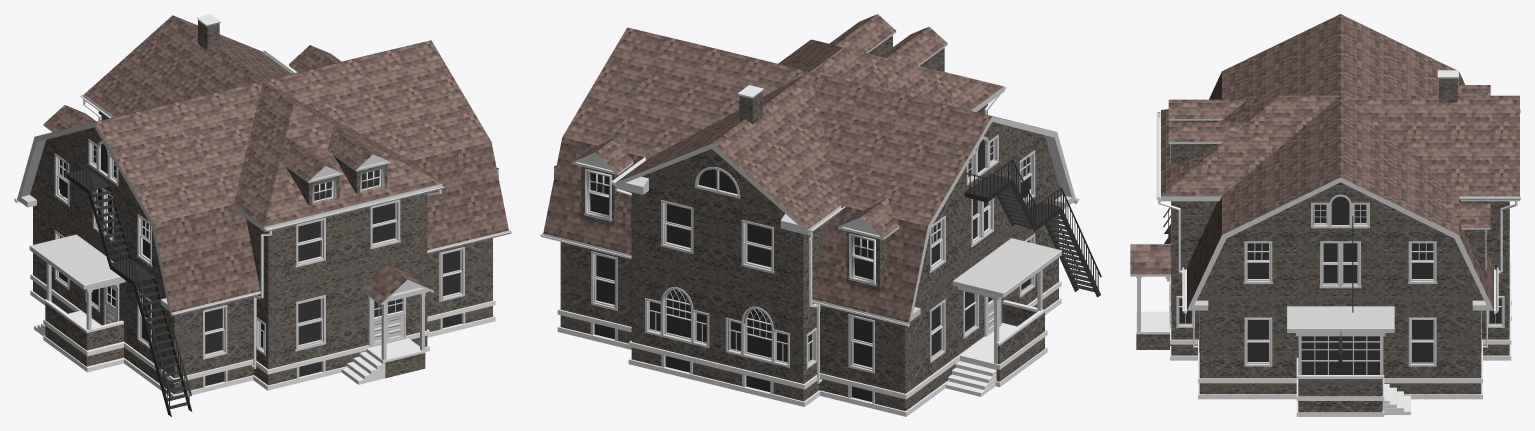
Rendered from house.glb.
The picture shows the model from 3 angles, left to right: view 1: azimuth 30°, elevation 25°; view 2: azimuth 150°, elevation 25°; view 3: azimuth 270°, elevation 25°; orthographic projection. The views are drawn at different scales.
Parts seen in each view (by area): view 1: HouseMain, PorchBack, Windows, PorchSide, FireEscapeRear; view 2: HouseMain, Windows, PorchBack, FireEscapeRear; view 3: HouseMain, PorchFront, Windows, PorchSide.
Part boxes in pixels (<box>): HouseMain: <box>14,14,511,396</box>; PorchBack: <box>29,234,125,372</box>; Windows: <box>60,143,461,385</box>; PorchSide: <box>341,265,433,384</box>; FireEscapeRear: <box>66,150,192,416</box>; HouseMain: <box>540,14,1079,416</box>; Windows: <box>590,139,1029,401</box>; PorchBack: <box>945,238,1061,396</box>; FireEscapeRear: <box>964,159,1101,297</box>; HouseMain: <box>1156,14,1520,399</box>; PorchFront: <box>1287,306,1410,416</box>; Windows: <box>1179,196,1501,361</box>; PorchSide: <box>1130,244,1171,349</box>.
Size of the model in its own units: 21.94 by 11.81 by 16.88.
Materials: 9 (4 with a texture image).
